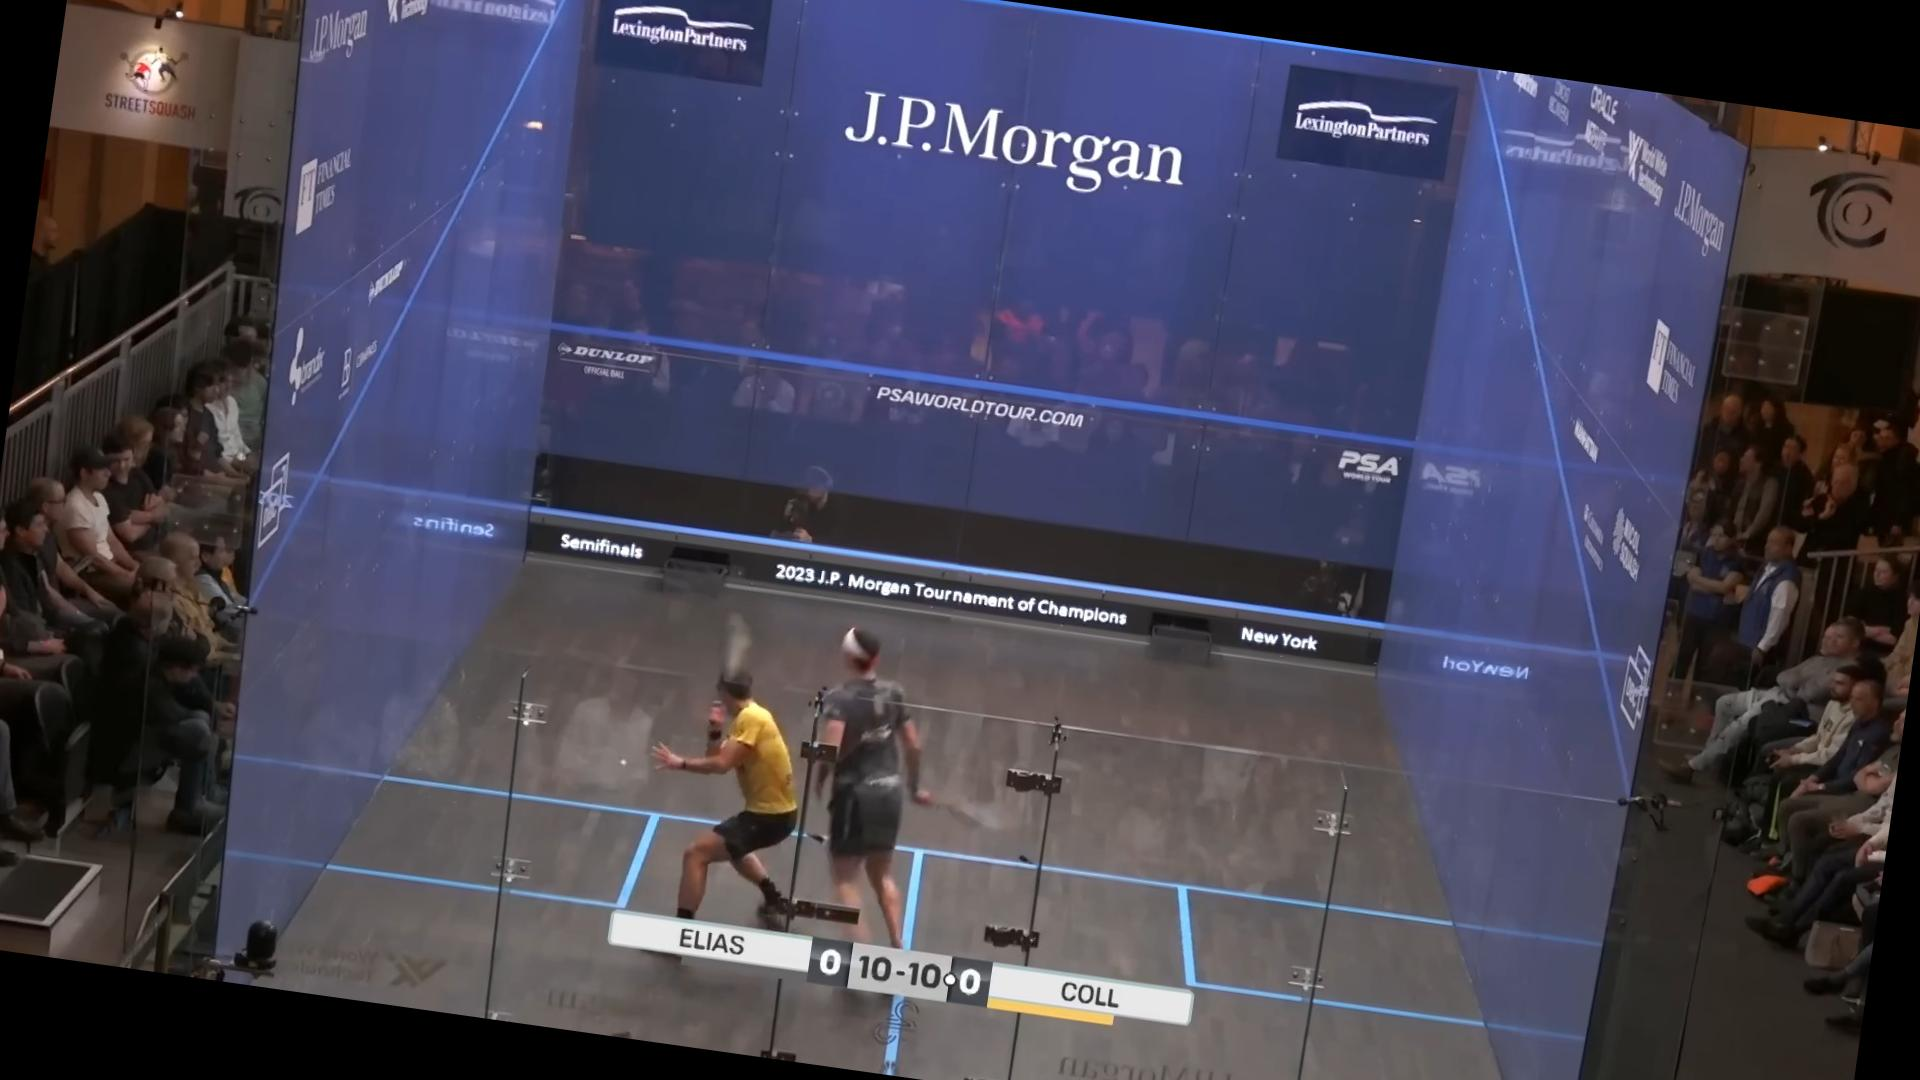Racket: (916, 778, 1033, 843)
